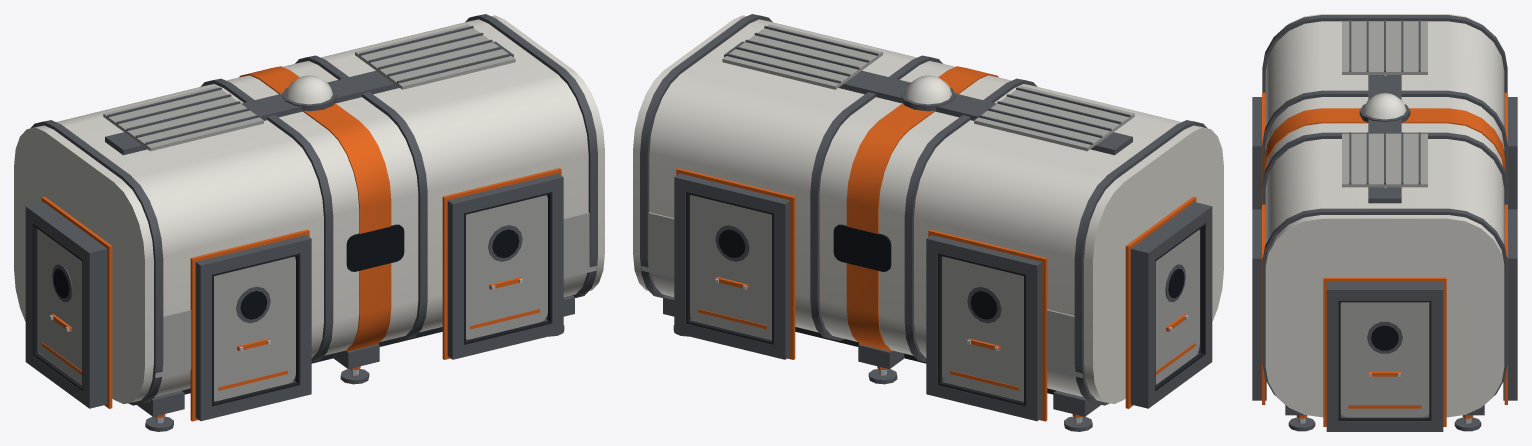
Rendered from hab_large.glb.
3 views of the same model, side by side, from view 1: azimuth 30°, elevation 25°; view 2: azimuth 150°, elevation 25°; view 3: azimuth 270°, elevation 25° (orthographic). The views are drawn at different scales.
Parts seen in each view (by area): view 1: body, hatch_n2, hatch_n, hatch_w; view 2: body, hatch_s2, hatch_s, hatch_w; view 3: body, hatch_e.
Part boxes in pixels (x1,y1,x2,y2): body: (14, 14, 604, 431); hatch_n2: (466, 195, 547, 339); hatch_n: (214, 256, 295, 400); hatch_w: (38, 229, 82, 384); body: (633, 14, 1223, 431); hatch_s2: (690, 195, 771, 339); hatch_s: (942, 256, 1023, 400); hatch_w: (1155, 229, 1199, 384); body: (1252, 14, 1517, 431); hatch_e: (1340, 302, 1429, 417).
Size of the model in its own units: 8 by 4.05 by 4.
